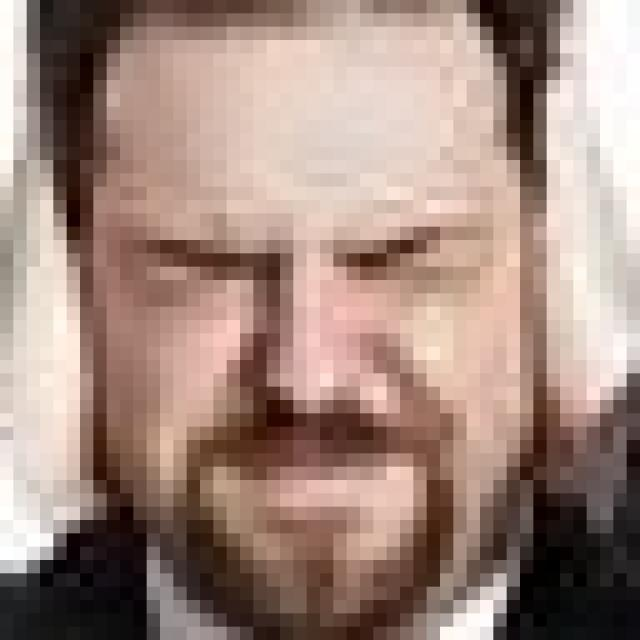Eyeclosed: (336, 213, 447, 290), (150, 231, 249, 297)
